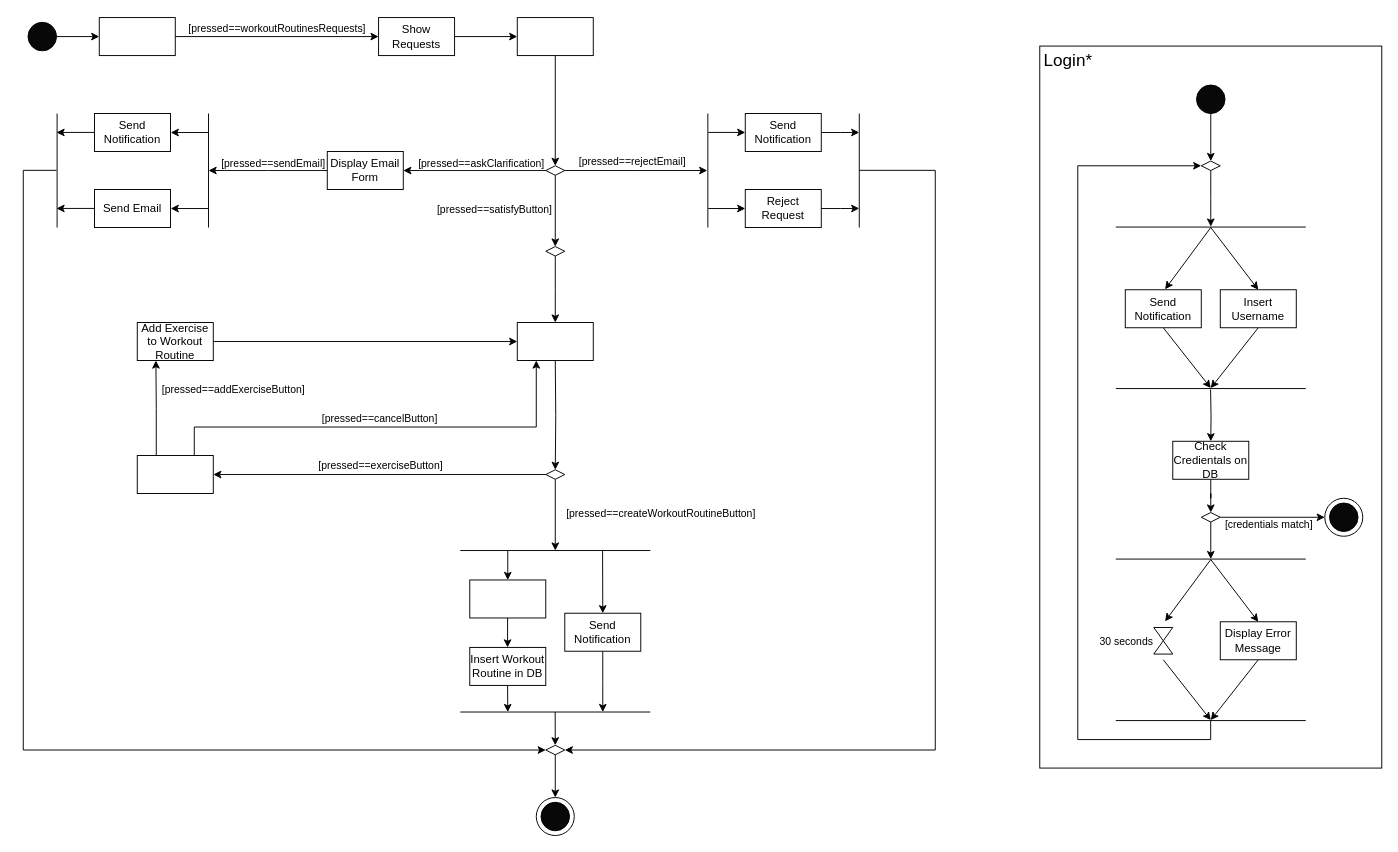
The diagram is 1398 pixels wide and 852 high, and some of its shapes have lost their labels. Here are the shapes that lost their labels. From the top down, the box of each, then its label:
(98, 17, 175, 56): Login *
(516, 17, 593, 56): Select a request
(516, 322, 593, 361): Display Workout Form
(136, 455, 213, 494): Display Exercise Overview
(469, 579, 546, 618): Create Workout Routine
